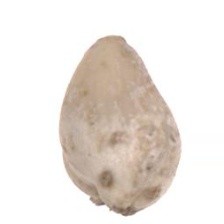L1: (89, 198, 138, 217), (91, 33, 132, 47)
L2: (59, 35, 181, 216)
